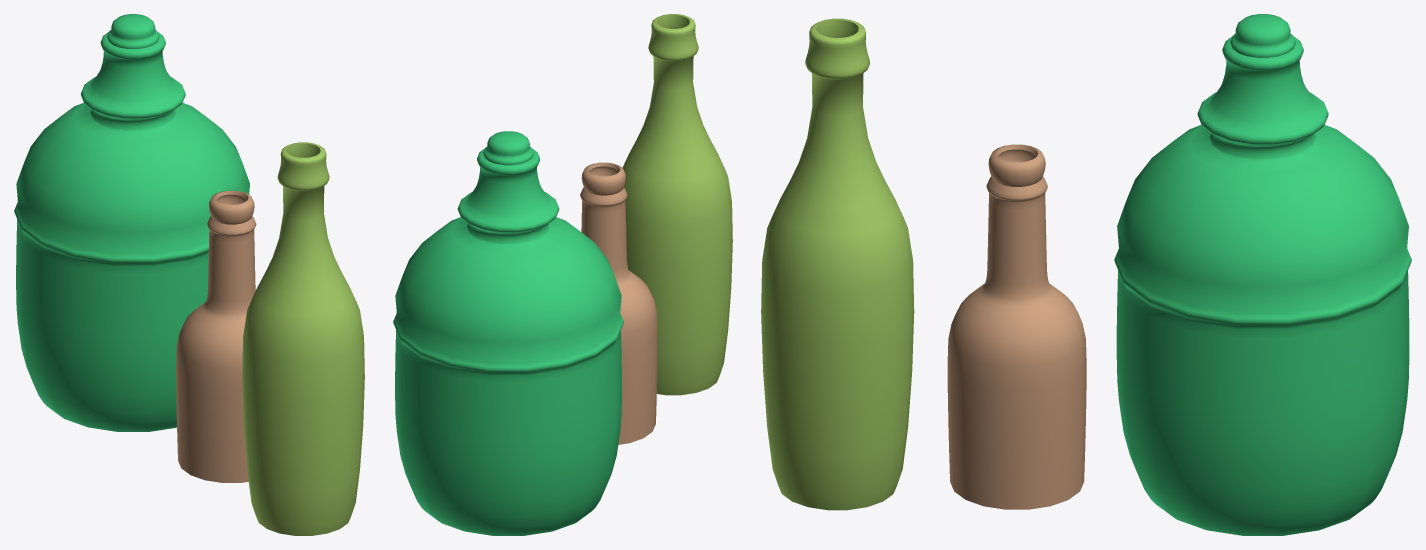
Rendered from bottle.fbx.
3 renders of one model, left to right at view 1: azimuth 30°, elevation 25°; view 2: azimuth 150°, elevation 25°; view 3: azimuth 270°, elevation 25°, orthographic. The views are drawn at different scales.
Visible parts, largest first — view 1: Lathe_2, Lathe, Lathe_1; view 2: Lathe_2, Lathe, Lathe_1; view 3: Lathe_2, Lathe, Lathe_1.
Part boxes in pixels (x1,y1,x2,y2): Lathe_2: (14,14,249,431); Lathe: (242,142,364,535); Lathe_1: (176,190,256,482); Lathe_2: (393,131,623,535); Lathe: (622,14,732,395); Lathe_1: (580,162,657,444); Lathe_2: (1114,14,1411,535); Lathe: (761,18,914,510); Lathe_1: (947,144,1086,509).
Bounding box in the file's own units: 62.7 × 111 × 139.
